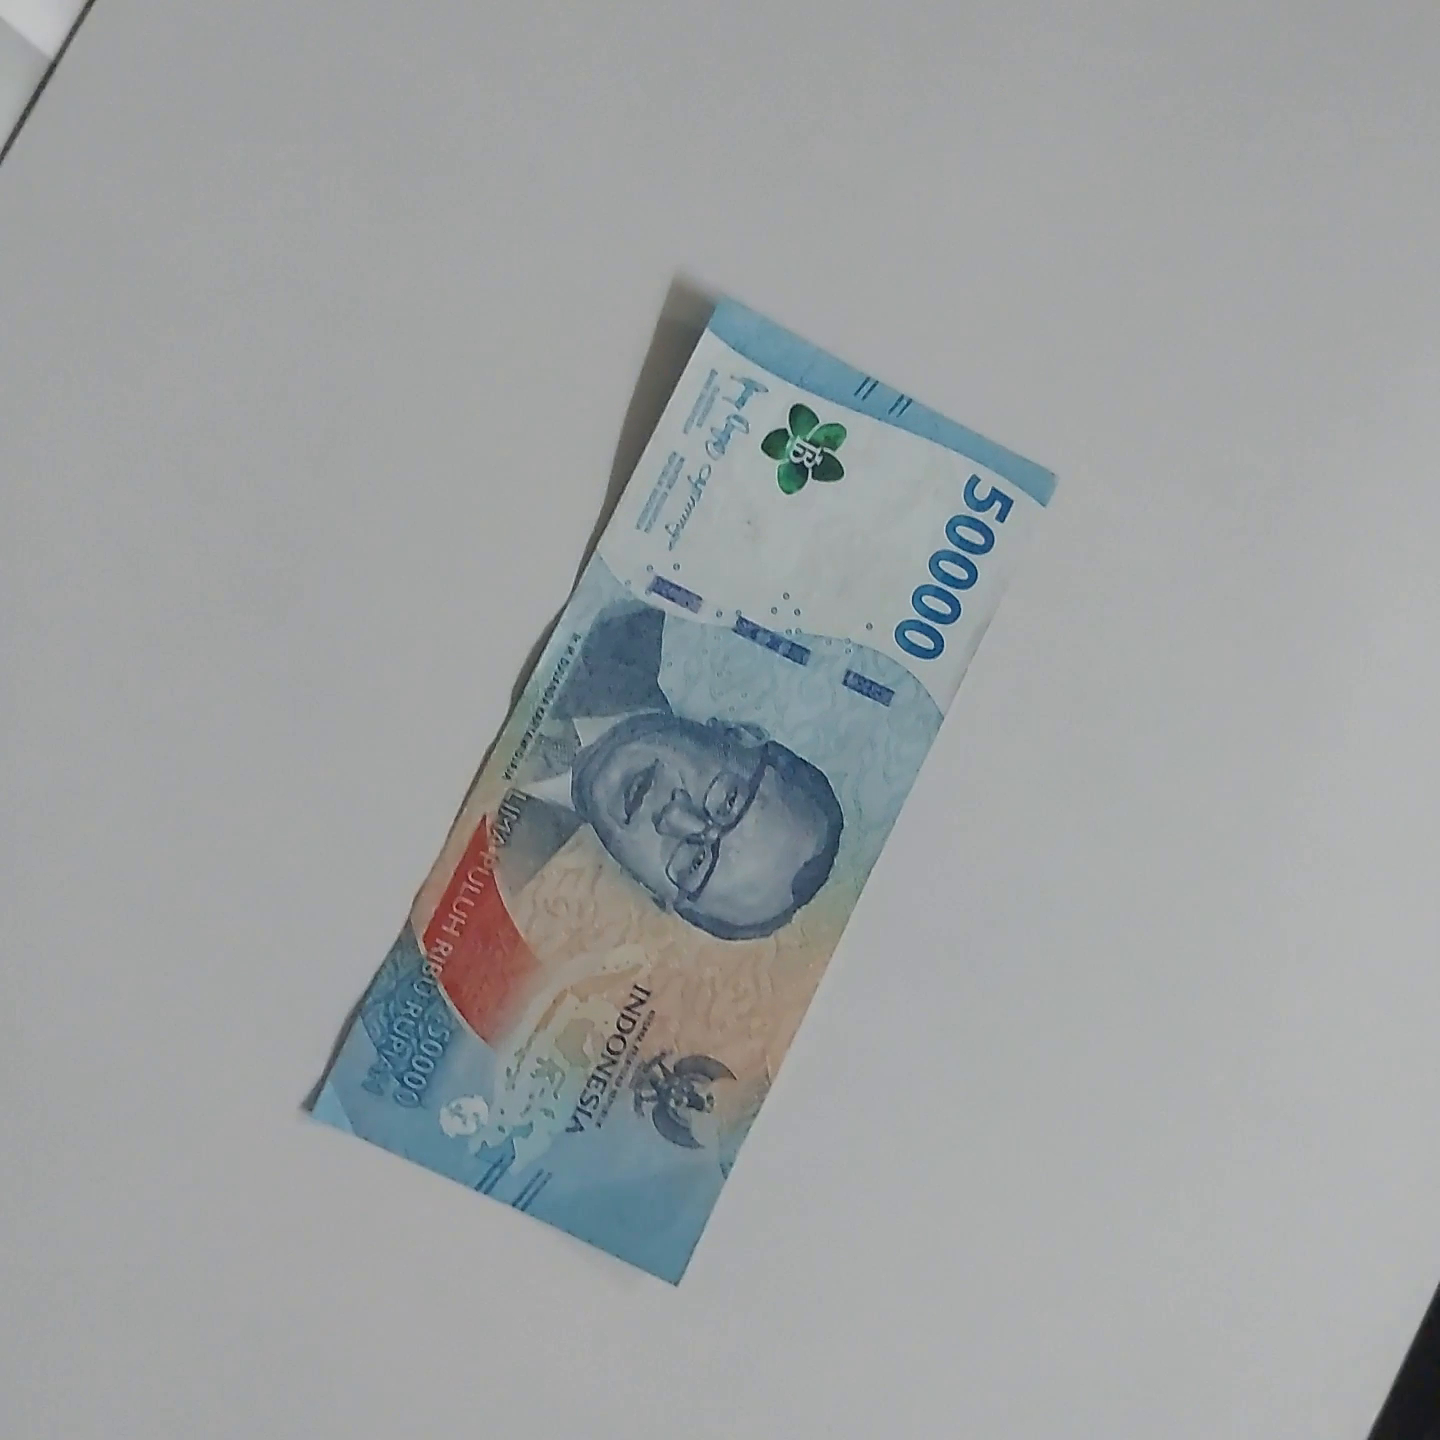50k: (727, 286, 1160, 1205)
